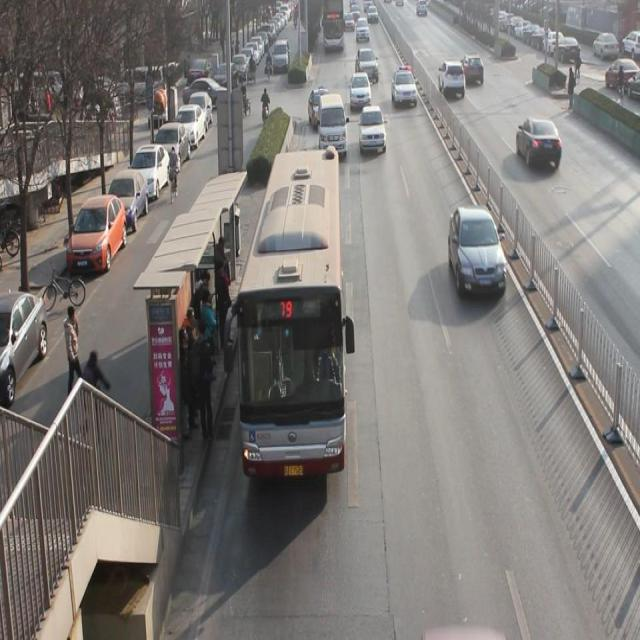car: (448, 213, 507, 300), (520, 116, 565, 174), (359, 106, 387, 151), (391, 66, 419, 107), (460, 50, 487, 90), (438, 61, 466, 97), (349, 75, 372, 112), (357, 48, 380, 84), (308, 87, 330, 124), (356, 17, 371, 40)
truck: (320, 96, 346, 156)
van: (235, 144, 344, 470), (321, 1, 344, 46)
